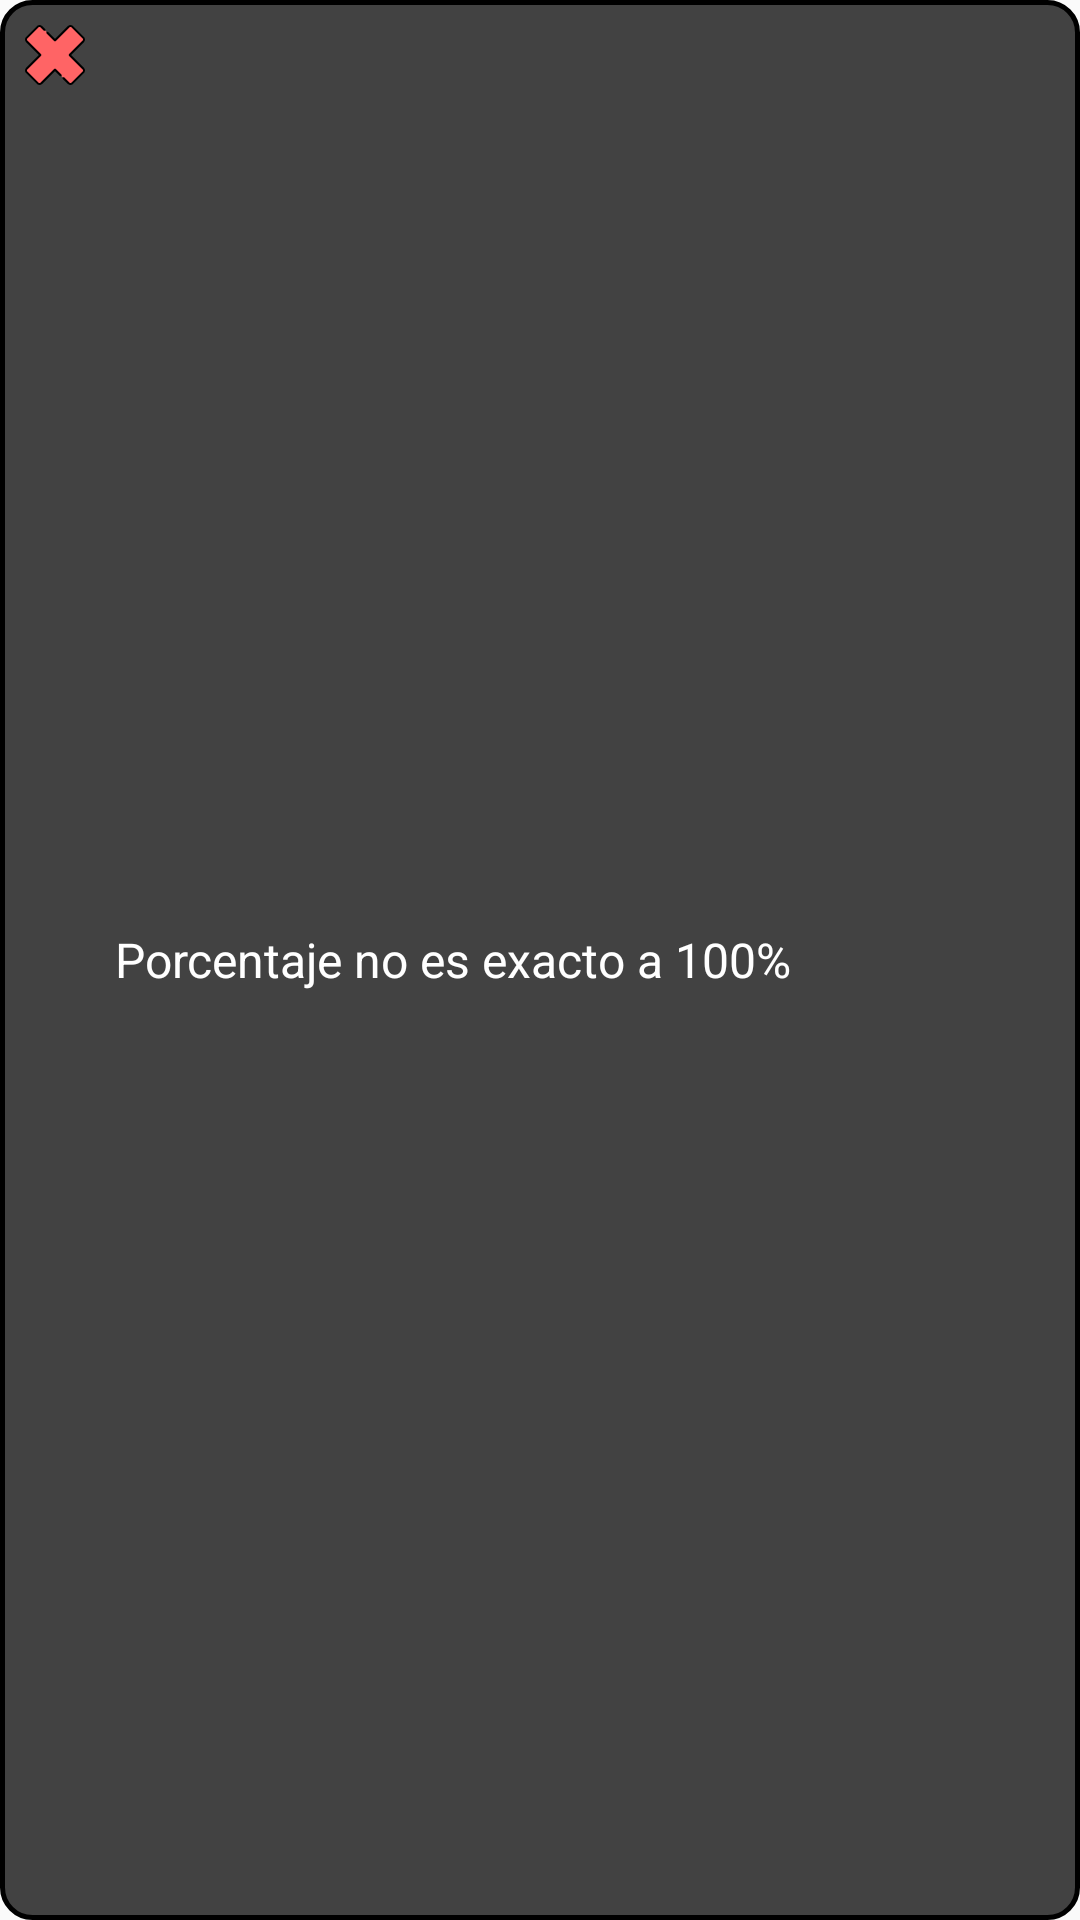

Where icons sit on this 1080*1920 app screen, as (x1, y1, x2, y2):
cross: (25, 25, 85, 85)
